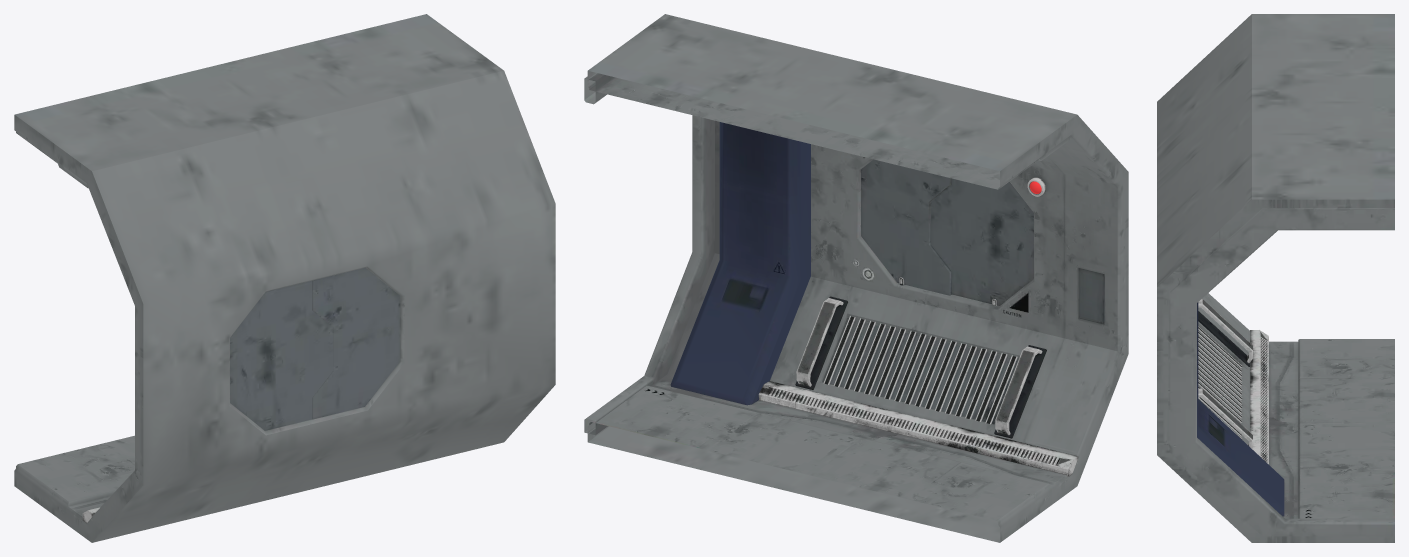
File: wall-b.glb
3 renders of one model, left to right at view 1: azimuth 30°, elevation 25°; view 2: azimuth 150°, elevation 25°; view 3: azimuth 270°, elevation 25°, orthographic. The views are drawn at different scales.
Parts seen in each view (by area): view 1: Env_Wall3_Walls_0; view 2: Env_Wall3_Walls_0; view 3: Env_Wall3_Walls_0.
Boxes of the visible parts, x1,y1,x2,y2 form: Env_Wall3_Walls_0: [14, 14, 555, 542]; Env_Wall3_Walls_0: [584, 14, 1128, 542]; Env_Wall3_Walls_0: [1157, 14, 1394, 542].
Size of the model in its own units: 4.49 by 3.83 by 2.41.
Materials: 1 (1 with a texture image).
